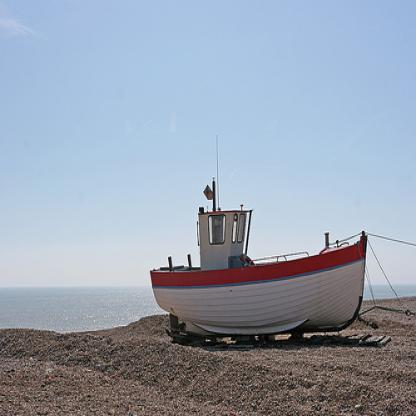boat: (150, 176, 368, 345)
